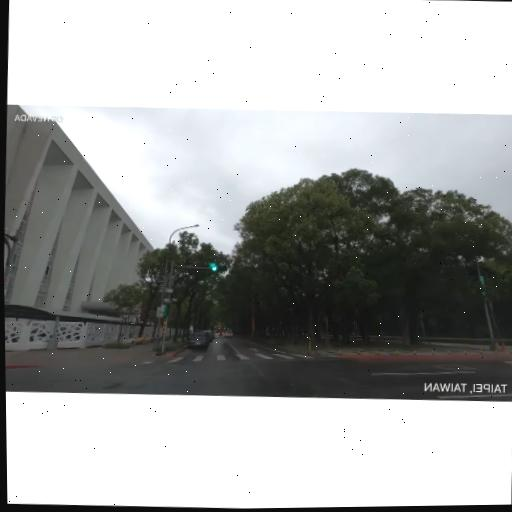Car: (185, 328, 209, 352), (223, 328, 233, 340)
